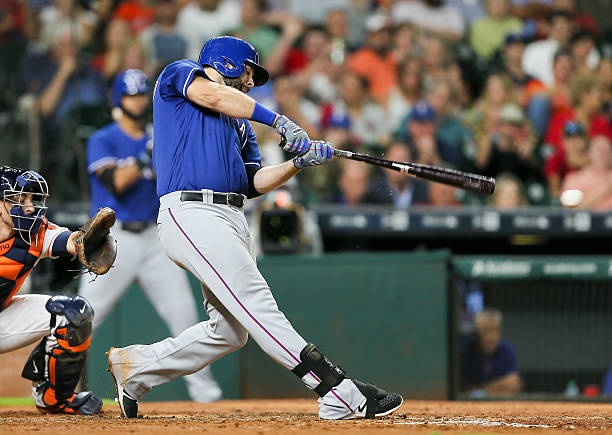bita: (281, 141, 496, 192)
